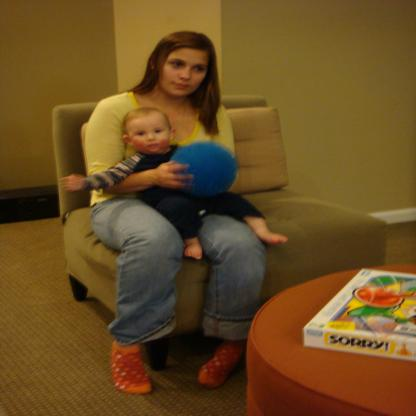Ball: (170, 140, 234, 196)
